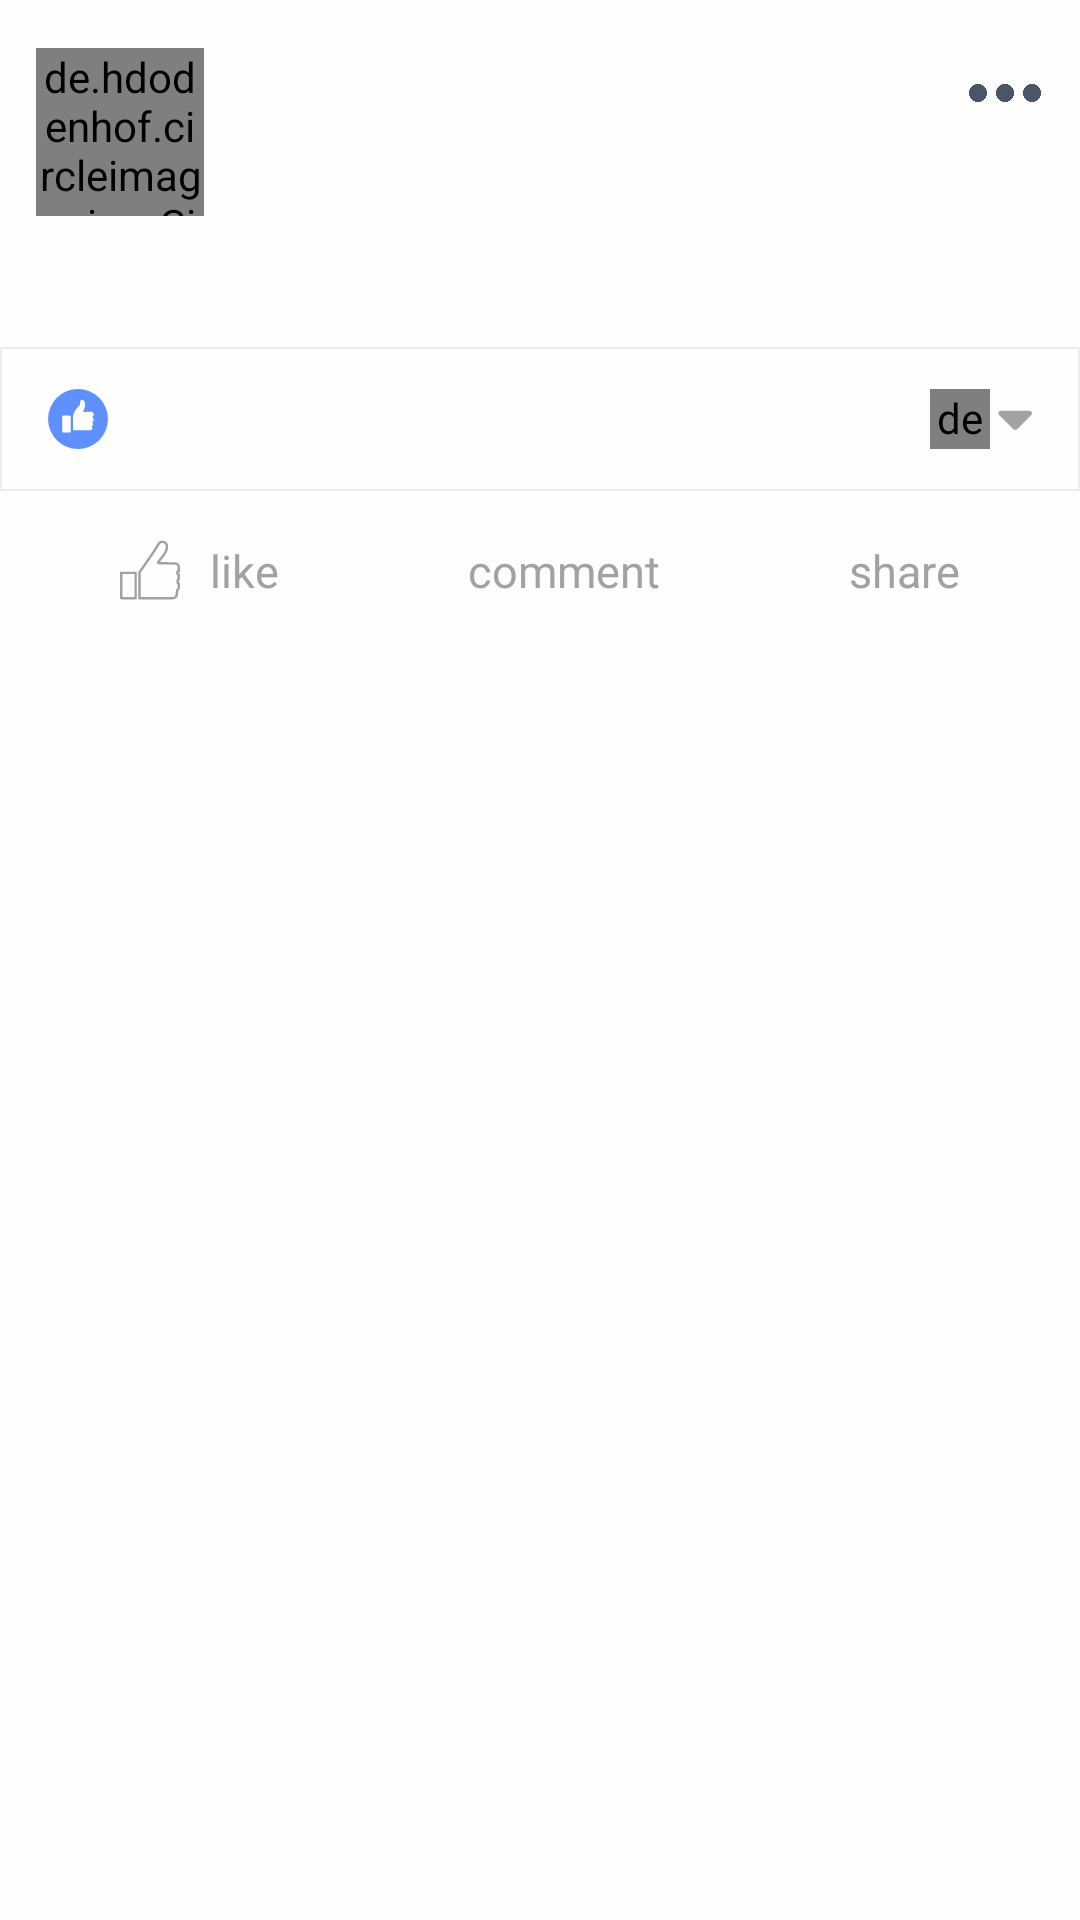

Screen size 1080 x 1920. Icon name, then its center in pixels as [x,y]:
options: [1005,93]
triangle: [1015,420]
